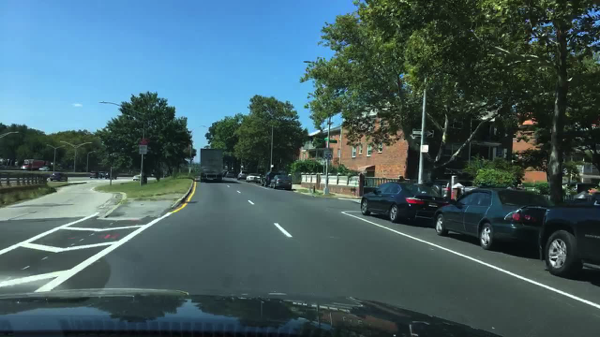car: (432, 187, 554, 252), (537, 191, 599, 279), (359, 180, 449, 225), (269, 174, 292, 192), (260, 169, 281, 187), (50, 171, 68, 183), (245, 172, 261, 184), (237, 170, 250, 180), (89, 170, 103, 179), (38, 165, 50, 173), (226, 170, 236, 178), (133, 174, 141, 182), (104, 172, 111, 180), (98, 171, 105, 178), (222, 169, 227, 177)
person: (399, 175, 405, 181)
traffic sign: (411, 128, 433, 139), (138, 138, 148, 155), (323, 147, 335, 161), (419, 143, 429, 154), (329, 139, 337, 145), (270, 163, 274, 169), (240, 165, 244, 169)
truck: (199, 147, 223, 184), (20, 158, 44, 171), (110, 167, 118, 181)
